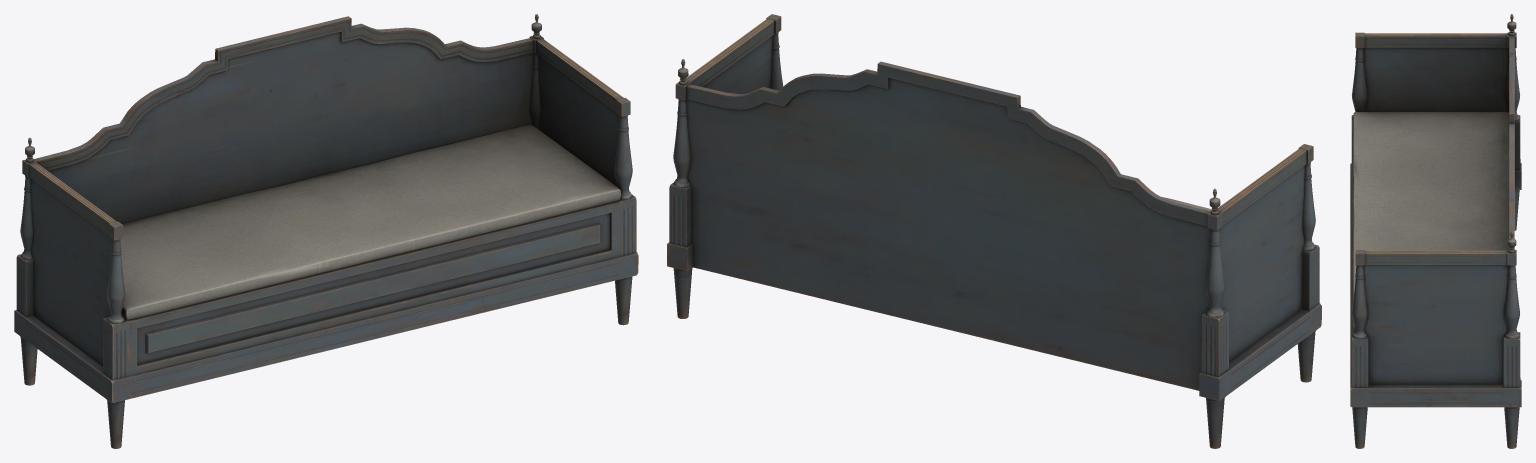
The model's file is painted_wooden_sofa.glb.
The picture shows the model from 3 angles, left to right: view 1: azimuth 30°, elevation 25°; view 2: azimuth 150°, elevation 25°; view 3: azimuth 270°, elevation 25°; orthographic projection. The views are drawn at different scales.
Parts seen in each view (by area): view 1: painted_wooden_sofa; view 2: painted_wooden_sofa; view 3: painted_wooden_sofa.
Part boxes in pixels (x1=…): painted_wooden_sofa: x1=14, y1=14, x2=638, y2=448; painted_wooden_sofa: x1=667, y1=14, x2=1321, y2=448; painted_wooden_sofa: x1=1350, y1=14, x2=1521, y2=448.
Size of the model in its own units: 2.45 by 1.28 by 0.7872.
Materials: 1 (1 with a texture image).
